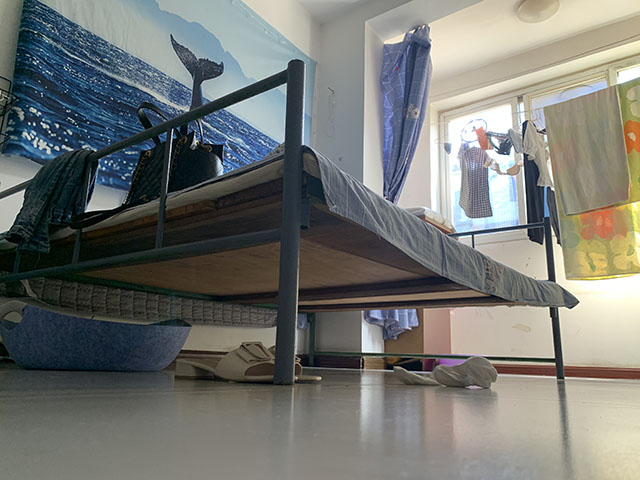bed: (1, 58, 580, 387)
slippers: (173, 340, 322, 384)
socks: (391, 357, 497, 390)
